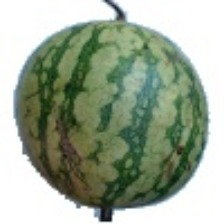watermelon: (35, 25, 185, 222)
